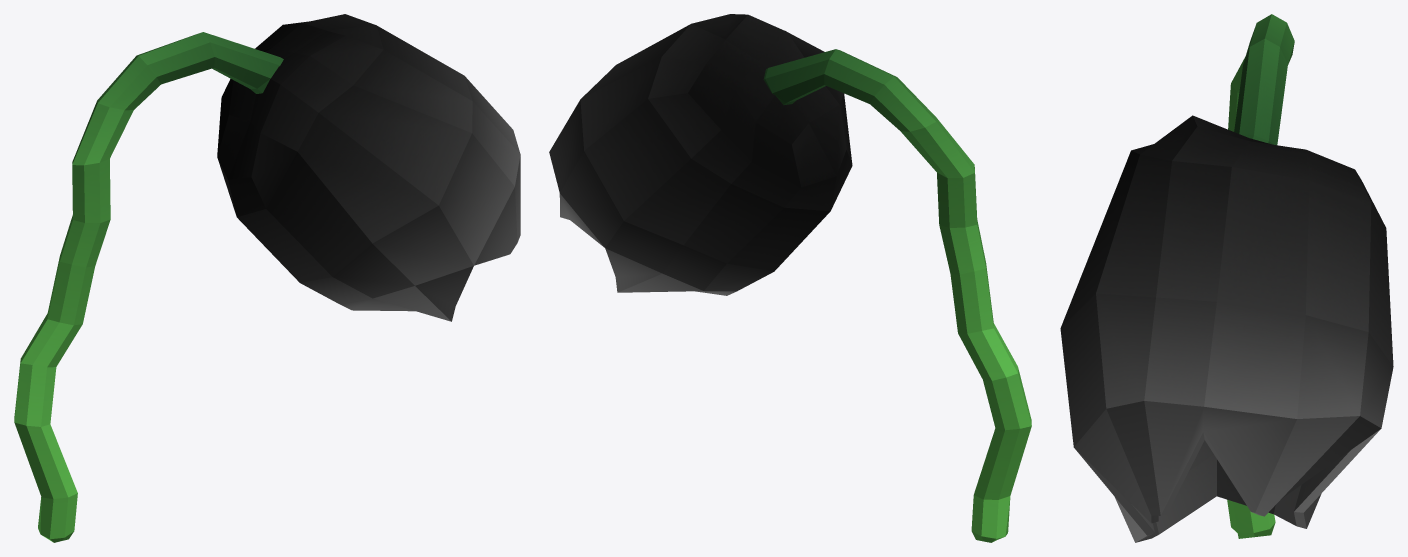
The model's file is DeadFlowerJoined.fbx.
3 renders of one model, left to right at view 1: azimuth 30°, elevation 25°; view 2: azimuth 150°, elevation 25°; view 3: azimuth 270°, elevation 25°, orthographic. The views are drawn at different scales.
Parts seen in each view (by area): view 1: Flor_LOD0; view 2: Flor_LOD0; view 3: Flor_LOD0.
Boxes of the visible parts, bbox=[...] form: Flor_LOD0: bbox=[14, 14, 520, 542]; Flor_LOD0: bbox=[549, 14, 1031, 542]; Flor_LOD0: bbox=[1060, 14, 1393, 542].
Size of what is drawn, in the model's own units: 42.66 by 39.45 by 20.18.
2 materials, 2 textured.
